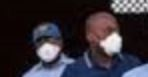with_facemask: (101, 32, 127, 57)
